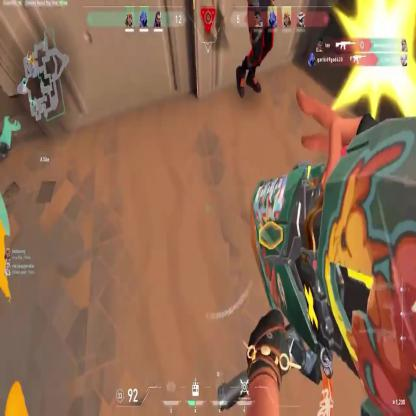enemy: (234, 0, 274, 100)
